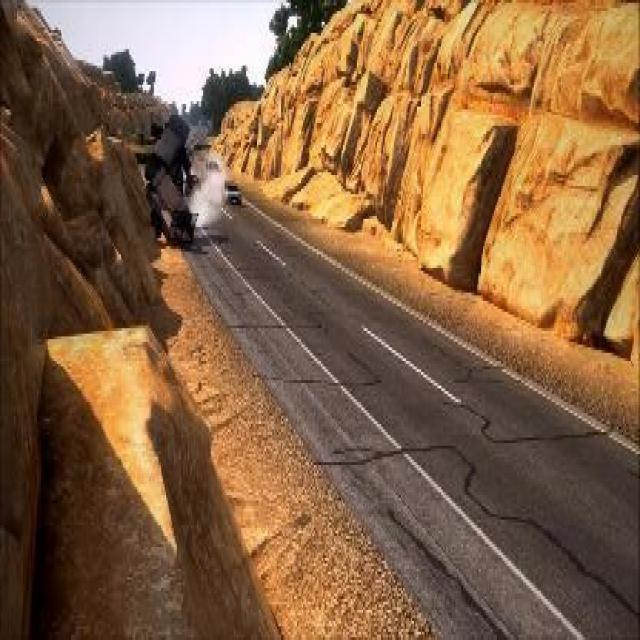accident: (139, 112, 203, 252)
